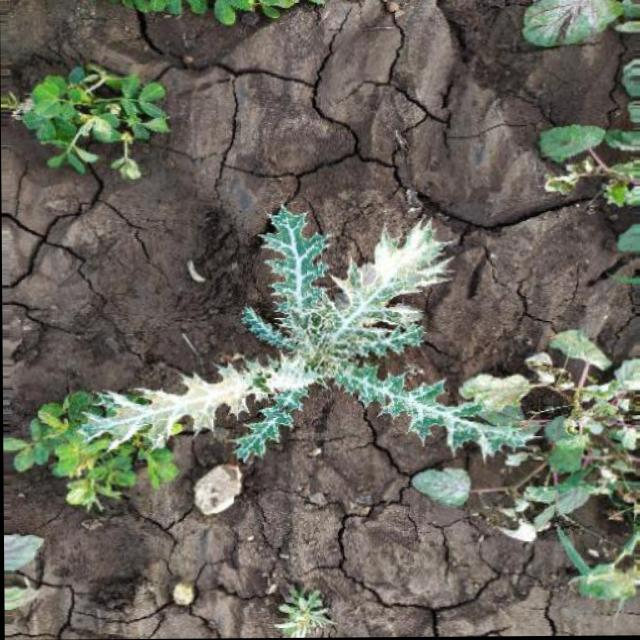weed: (89, 201, 536, 499), (11, 47, 182, 200)
